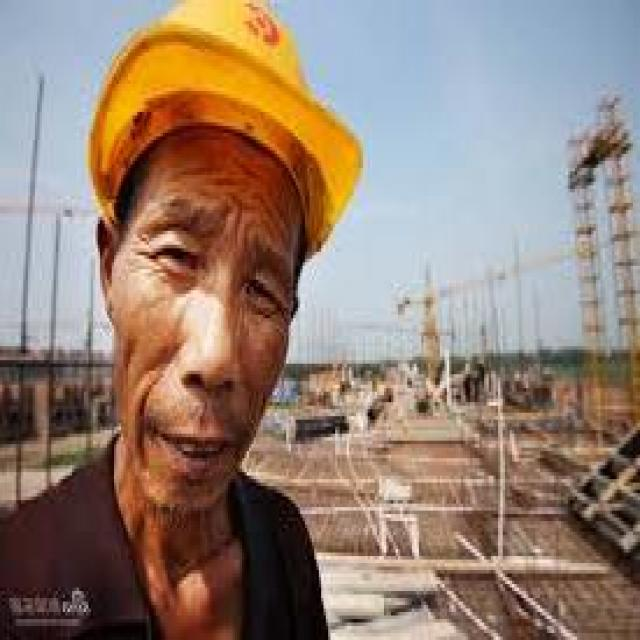Reflective-Jacket: (0, 440, 349, 640)
Safety-Helmet: (74, 7, 380, 245)
